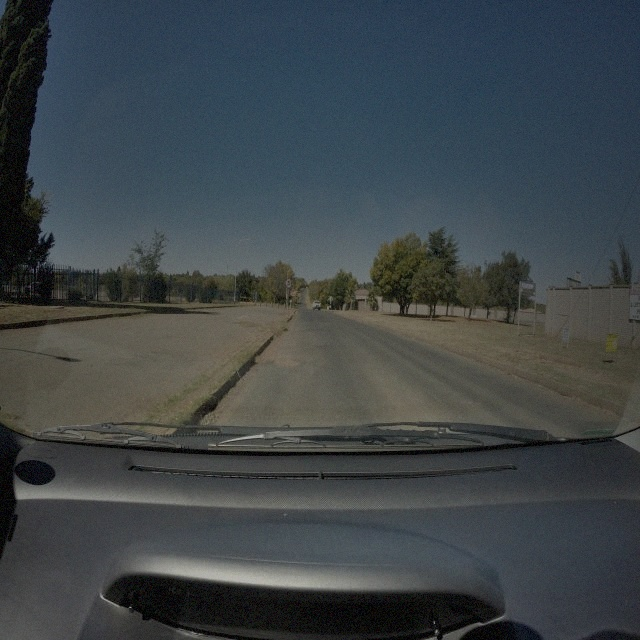pothole: (272, 356, 300, 370)
